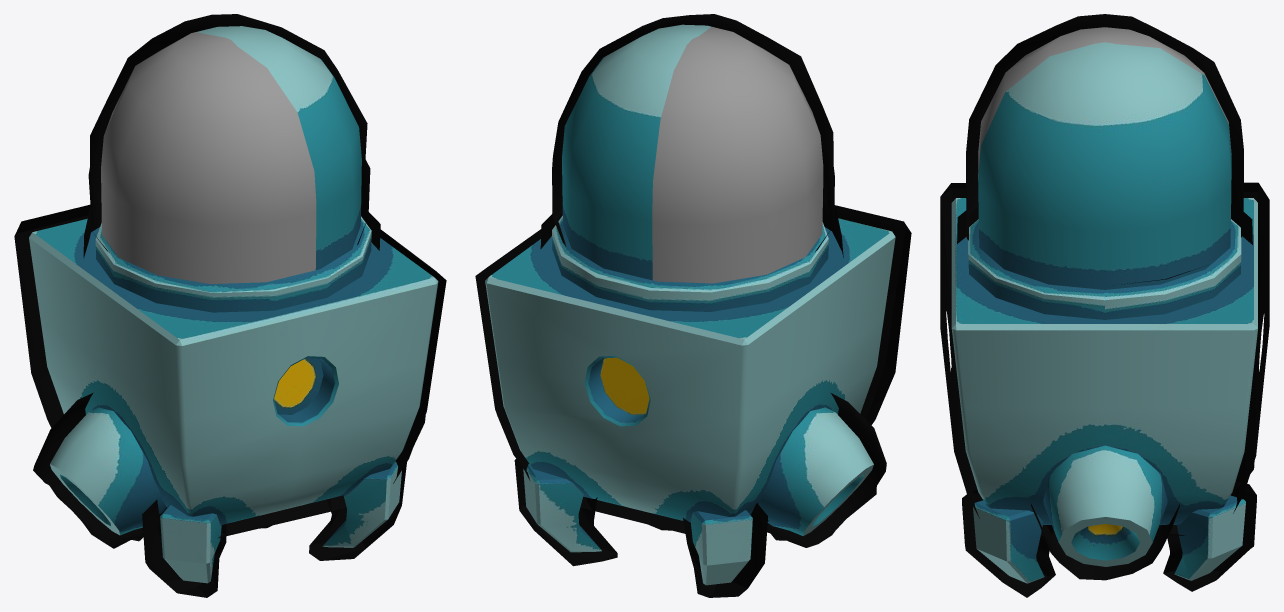
The model's file is pod.FBX.
3 renders of one model, left to right at view 1: azimuth 30°, elevation 25°; view 2: azimuth 150°, elevation 25°; view 3: azimuth 270°, elevation 25°, orthographic.
Parts seen in each view (by area): view 1: pod_body, pod_canopy, pod_edge; view 2: pod_body, pod_canopy, pod_edge; view 3: pod_body, pod_edge, pod_canopy.
Boxes of the visible parts, x1,y1,x2,y2 form: pod_body: (29,26,438,583); pod_canopy: (101,32,316,283); pod_edge: (14,14,446,597); pod_body: (485,24,895,585); pod_canopy: (652,26,823,283); pod_edge: (475,14,911,597); pod_body: (951,42,1257,583); pod_edge: (940,14,1269,597); pod_canopy: (978,27,1231,177).
Bounding box in the file's own units: 3.06 × 4.12 × 2.31.
6 materials, 4 textured.
